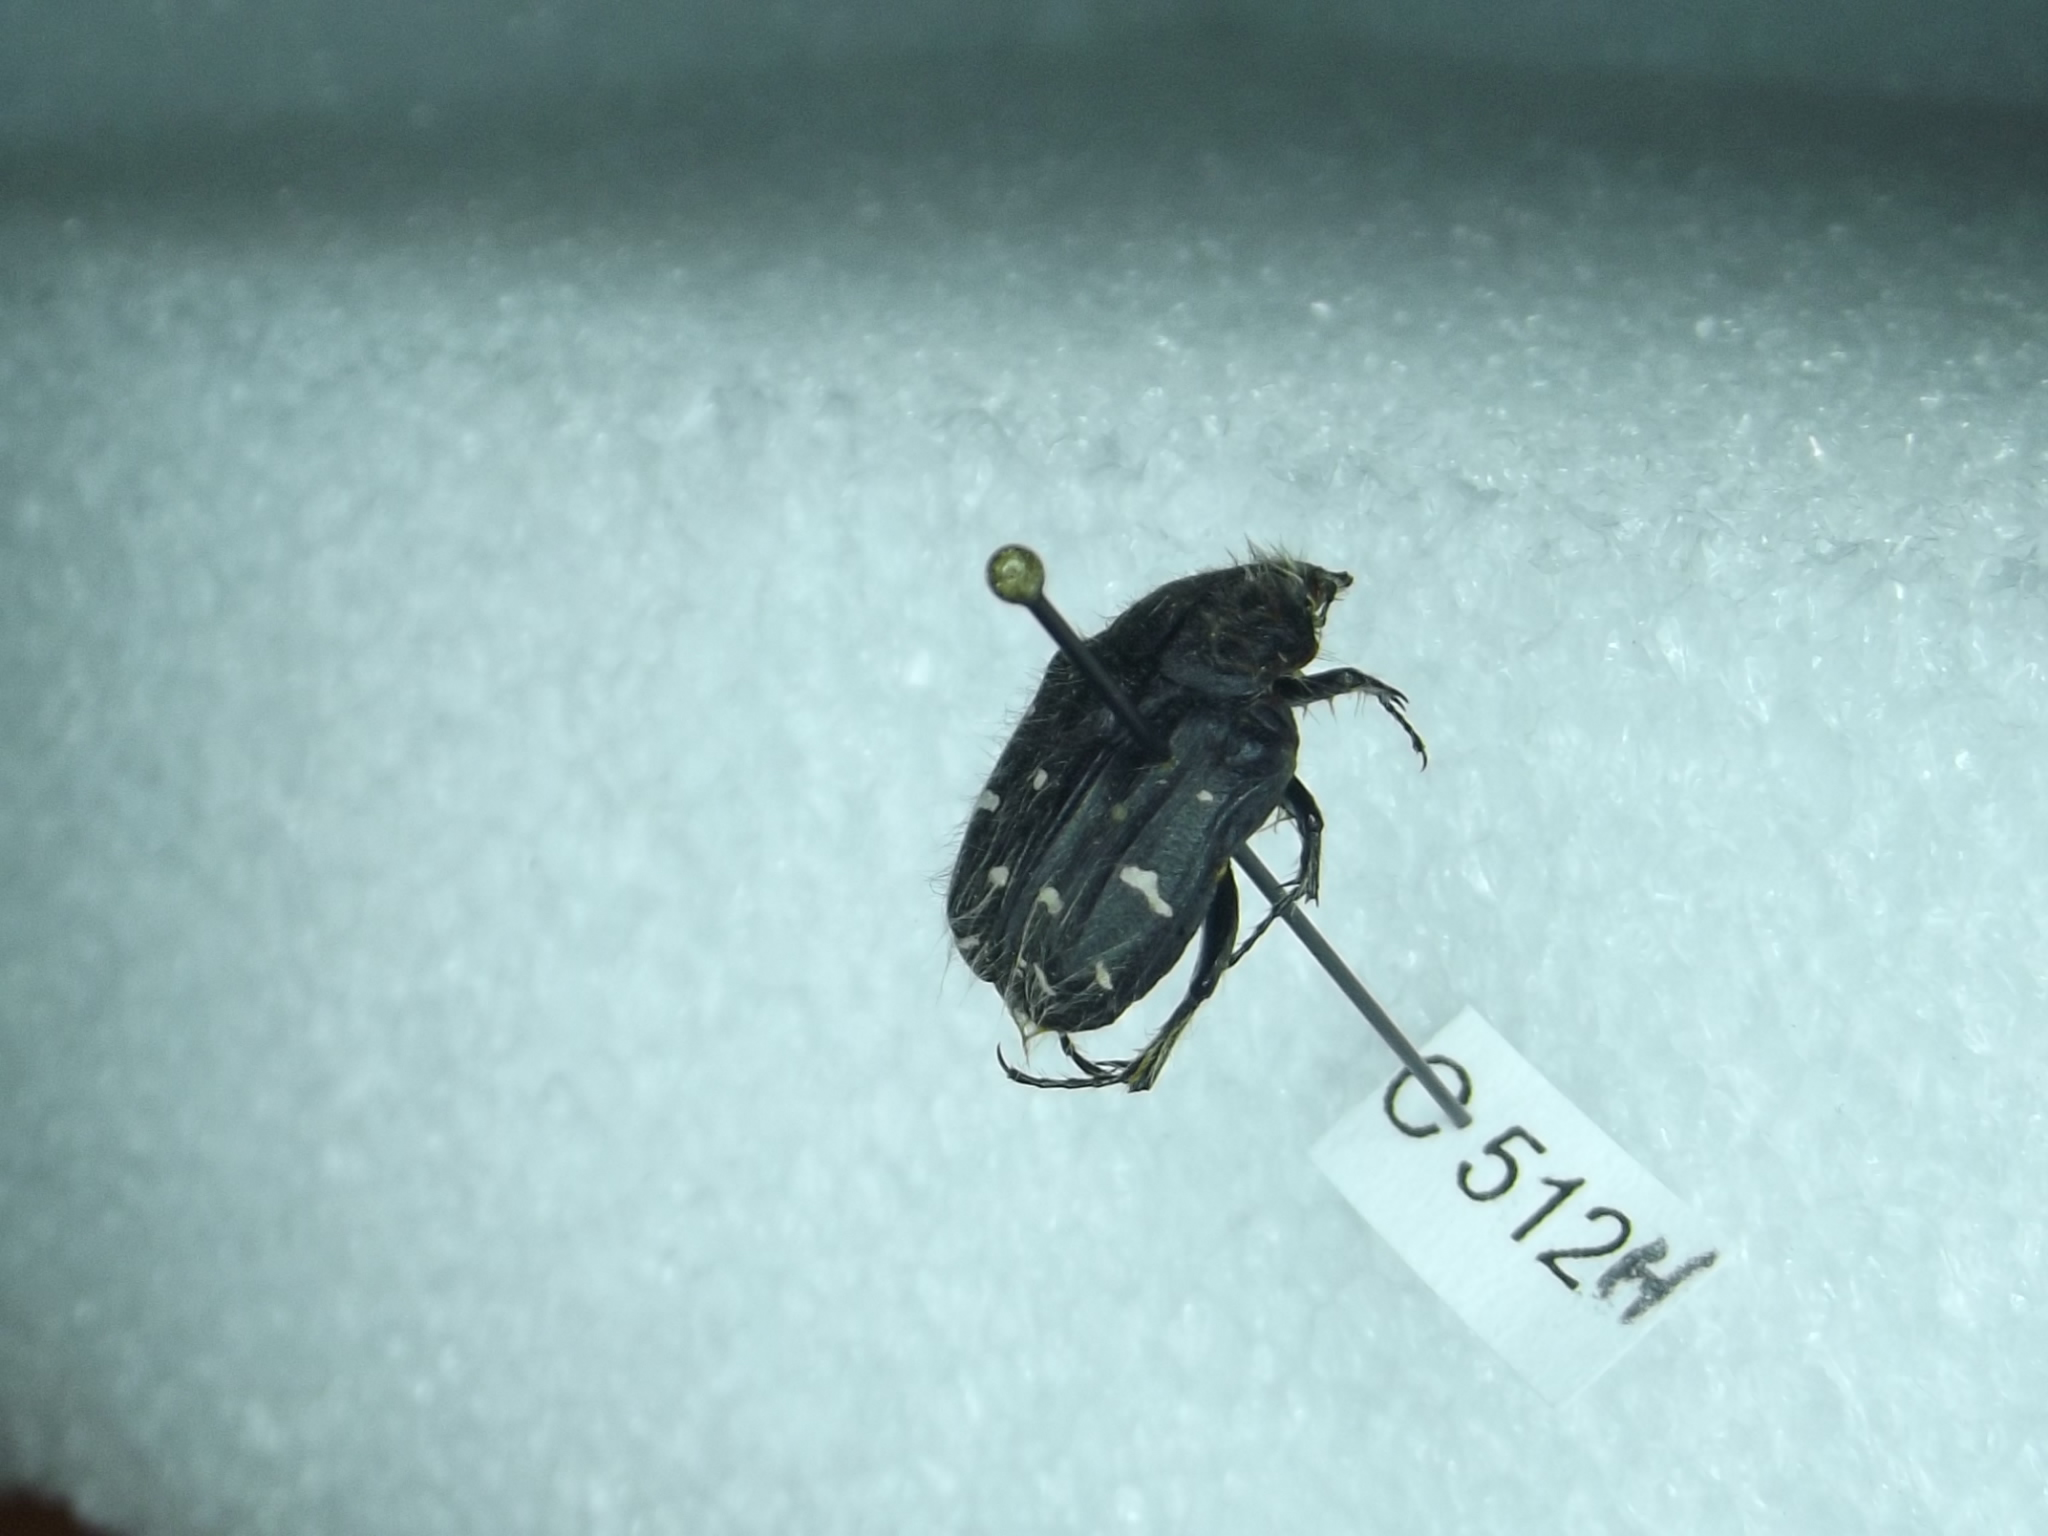Tropinota_senicula: (927, 507, 1476, 1121)
